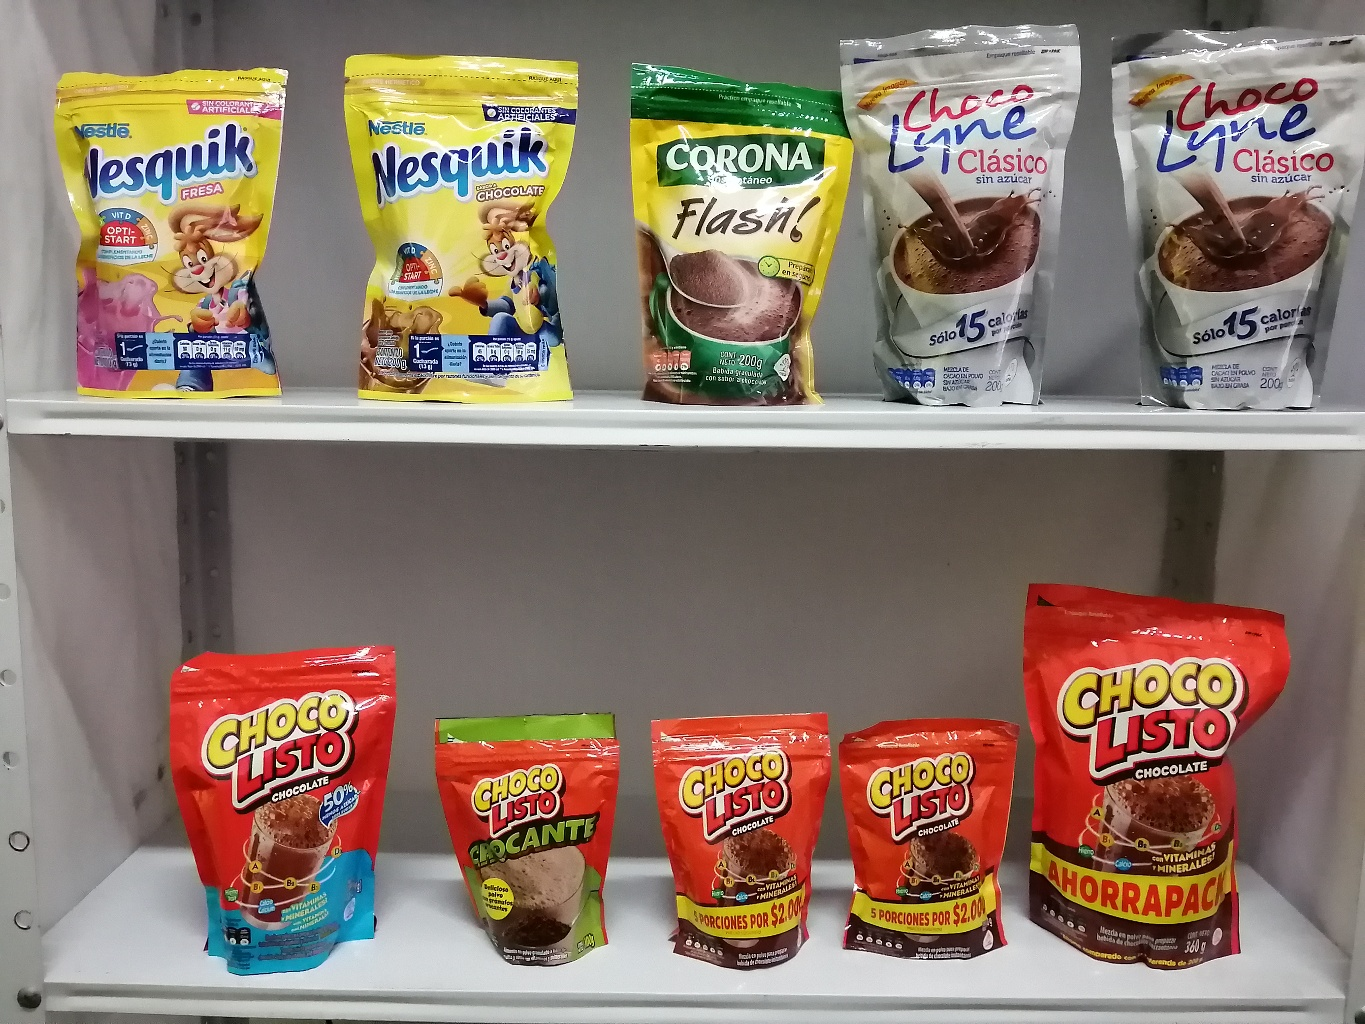COL0170102DYP10000: (424, 699, 632, 984)
COL0170103DYP36000: (1019, 575, 1304, 982)
COL0170104DYP20000: (152, 635, 420, 986)
COL0170303DYP20000: (325, 42, 595, 407)
COL0170305DYP20000: (44, 56, 295, 407)
